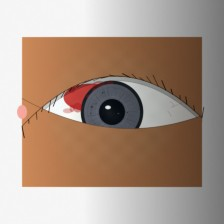hemorrhage_spot: (54, 68, 127, 127)
